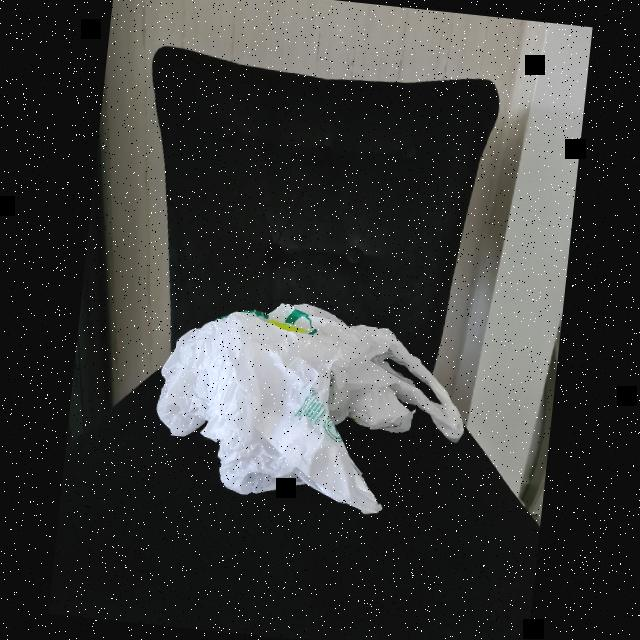plastic_bag: (143, 272, 483, 540)
